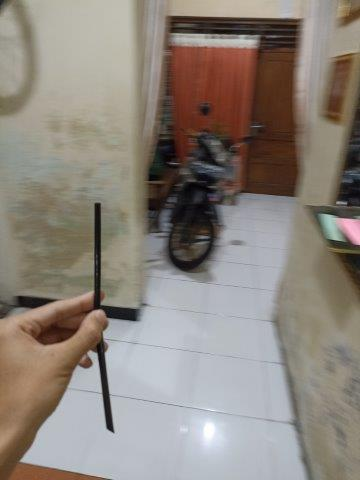sedotan: (93, 204, 114, 432)
